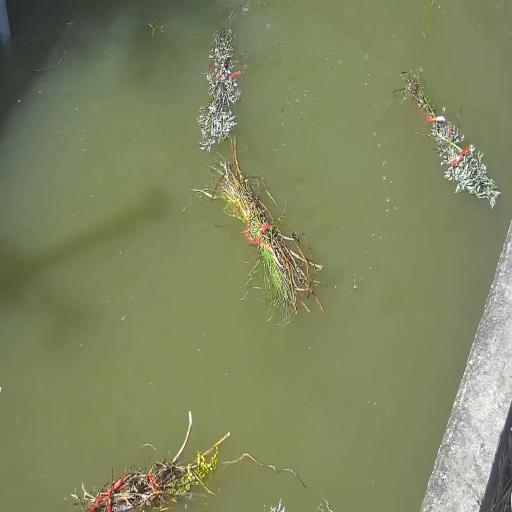twig: (196, 139, 323, 319), (73, 411, 229, 512), (394, 74, 500, 208), (197, 28, 241, 152)
